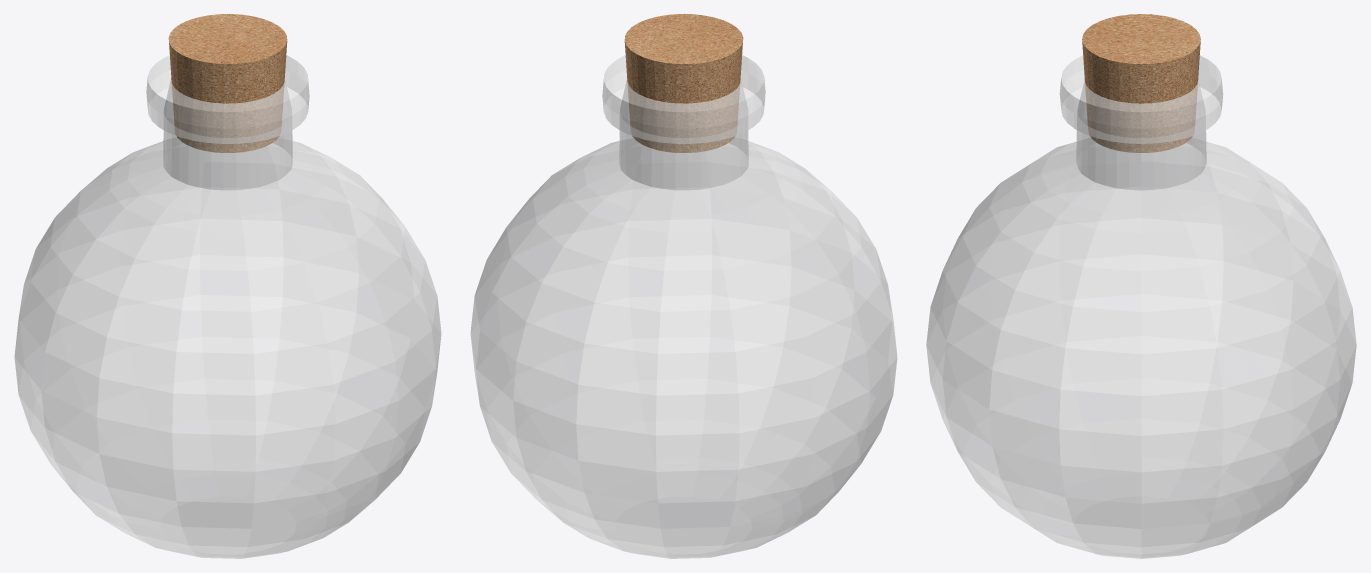
Rendered from potion_01.glb.
The picture shows the model from 3 angles, left to right: view 1: azimuth 30°, elevation 25°; view 2: azimuth 150°, elevation 25°; view 3: azimuth 270°, elevation 25°; orthographic projection.
Parts seen in each view (by area): view 1: Bottle, Cork; view 2: Bottle, Cork; view 3: Bottle, Cork.
Boxes of the visible parts, x1,y1,x2,y2 form: Bottle: [14, 55, 441, 558]; Cork: [168, 14, 287, 152]; Bottle: [470, 55, 897, 558]; Cork: [624, 14, 743, 152]; Bottle: [926, 55, 1356, 558]; Cork: [1082, 14, 1200, 152].
Bounding box in the file's own units: 2 × 2.49 × 2.
2 materials, 2 textured.
